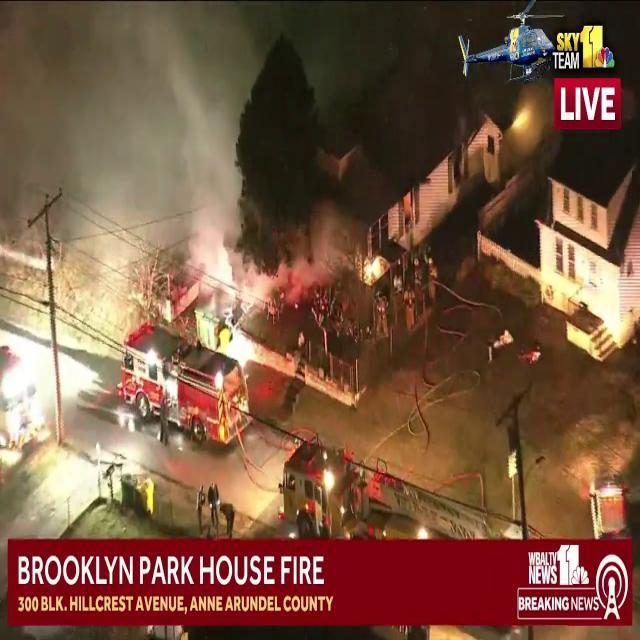Smoke: (0, 1, 250, 280)
